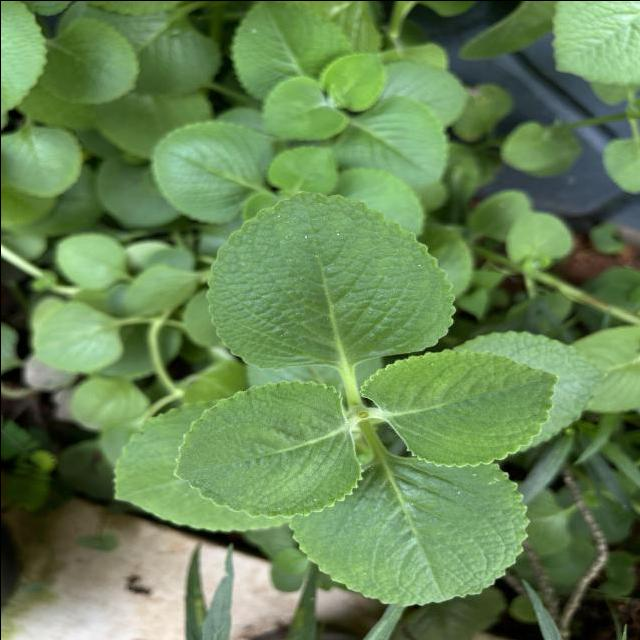Plectranthus barbatus: (205, 188, 458, 371), (286, 458, 530, 606), (170, 377, 364, 517), (358, 346, 559, 468)
